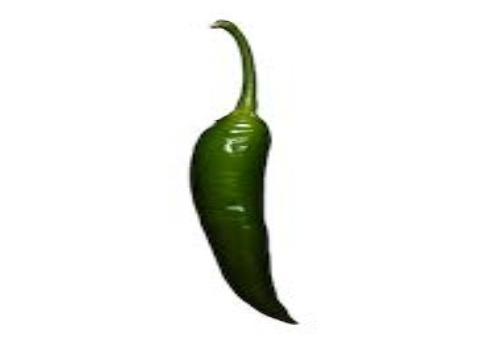Chilli: (165, 14, 319, 332)
